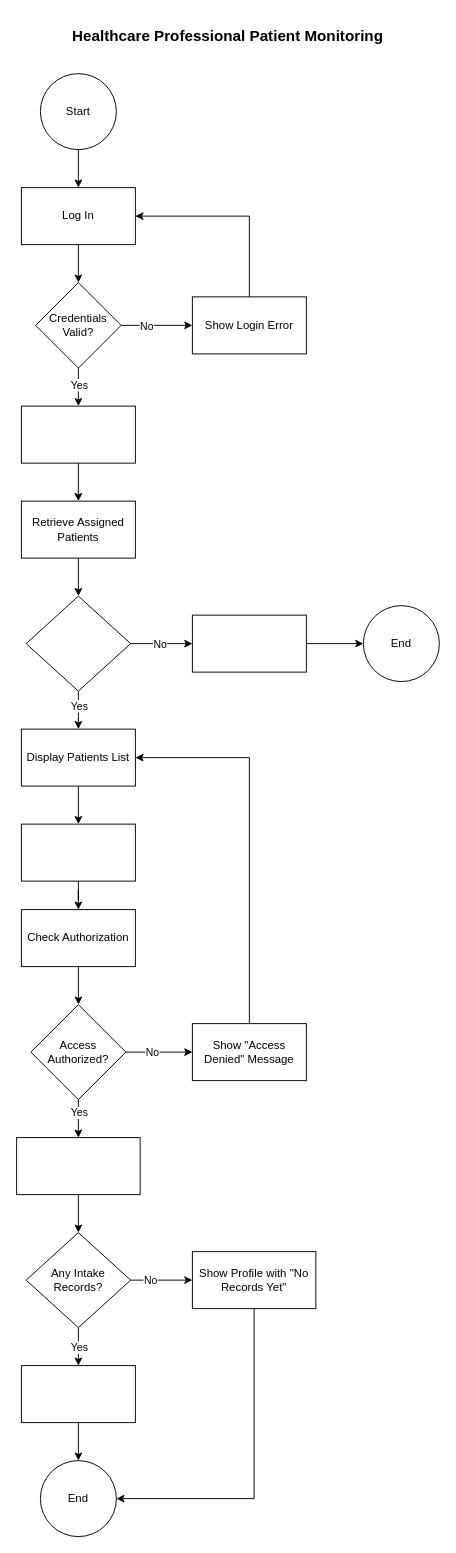
The diagram is 456 pixels wide and 1553 high, and some of its shapes have lost their labels. Each missing label, with the centre of its shape:
Any Assigned Patients?: point (78, 643)
Display Patient Monitoring Dashboard: point (77, 1394)
Open My Patients List: point (77, 434)
Retrieve Patient Profile and Intake Records: point (78, 1166)
Select Patient: point (77, 852)
Show "No Patients Assigned" Message: point (248, 643)
